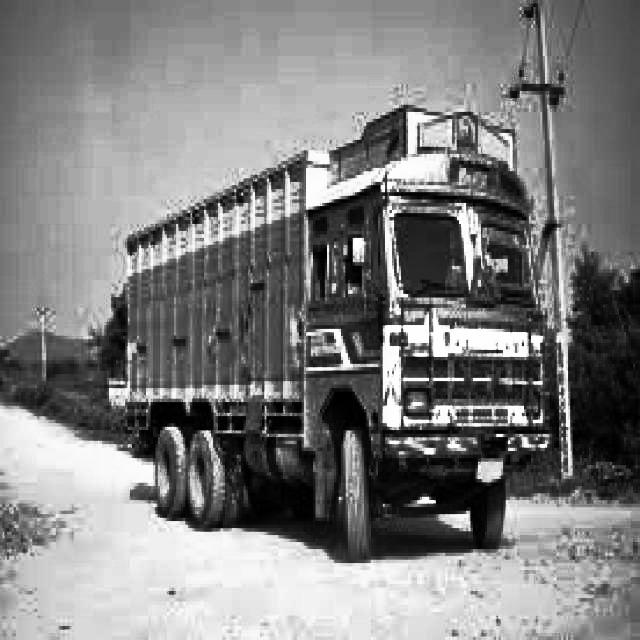HCV: (113, 69, 558, 597)
